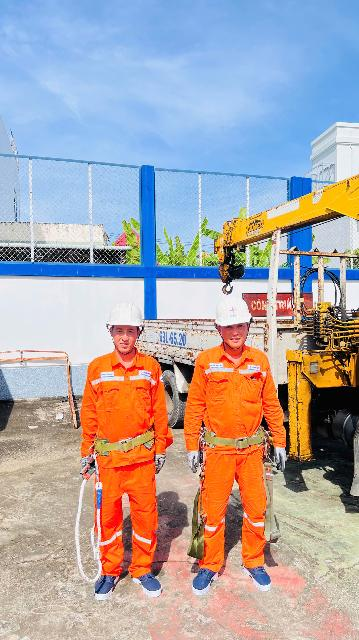gloves: (81, 428, 171, 455), (200, 427, 280, 456), (182, 443, 205, 480), (271, 441, 293, 470), (75, 455, 96, 479), (151, 452, 170, 475)
helmet: (209, 293, 265, 332), (103, 302, 149, 334)
shoes: (90, 562, 131, 605), (132, 564, 173, 607), (241, 557, 283, 595), (191, 558, 227, 595)
